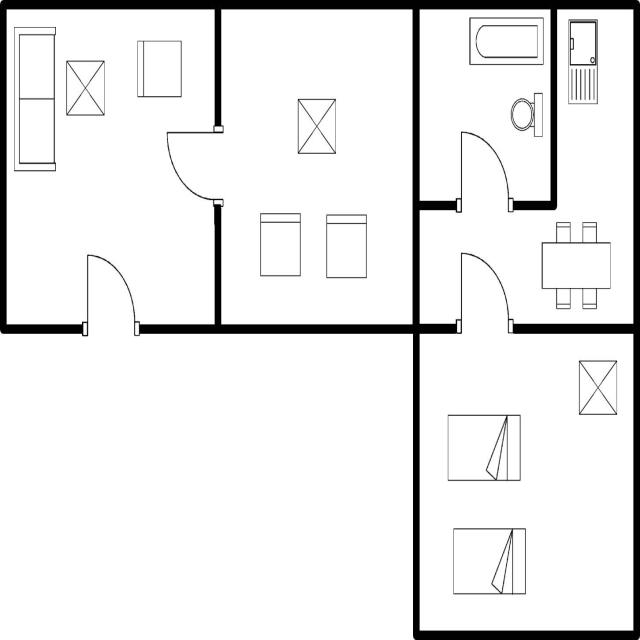bed: (442, 408, 524, 484), (450, 522, 531, 598)
coffee_table: (574, 354, 620, 422), (293, 95, 340, 156), (64, 56, 108, 118)
dining_table: (537, 216, 613, 314)
large_sink: (508, 87, 545, 141)
large_sofa: (10, 22, 60, 176)
sink: (565, 15, 599, 110)
small_sofa: (322, 208, 370, 282), (256, 209, 304, 282), (134, 35, 184, 101)
tub: (466, 14, 546, 70)
